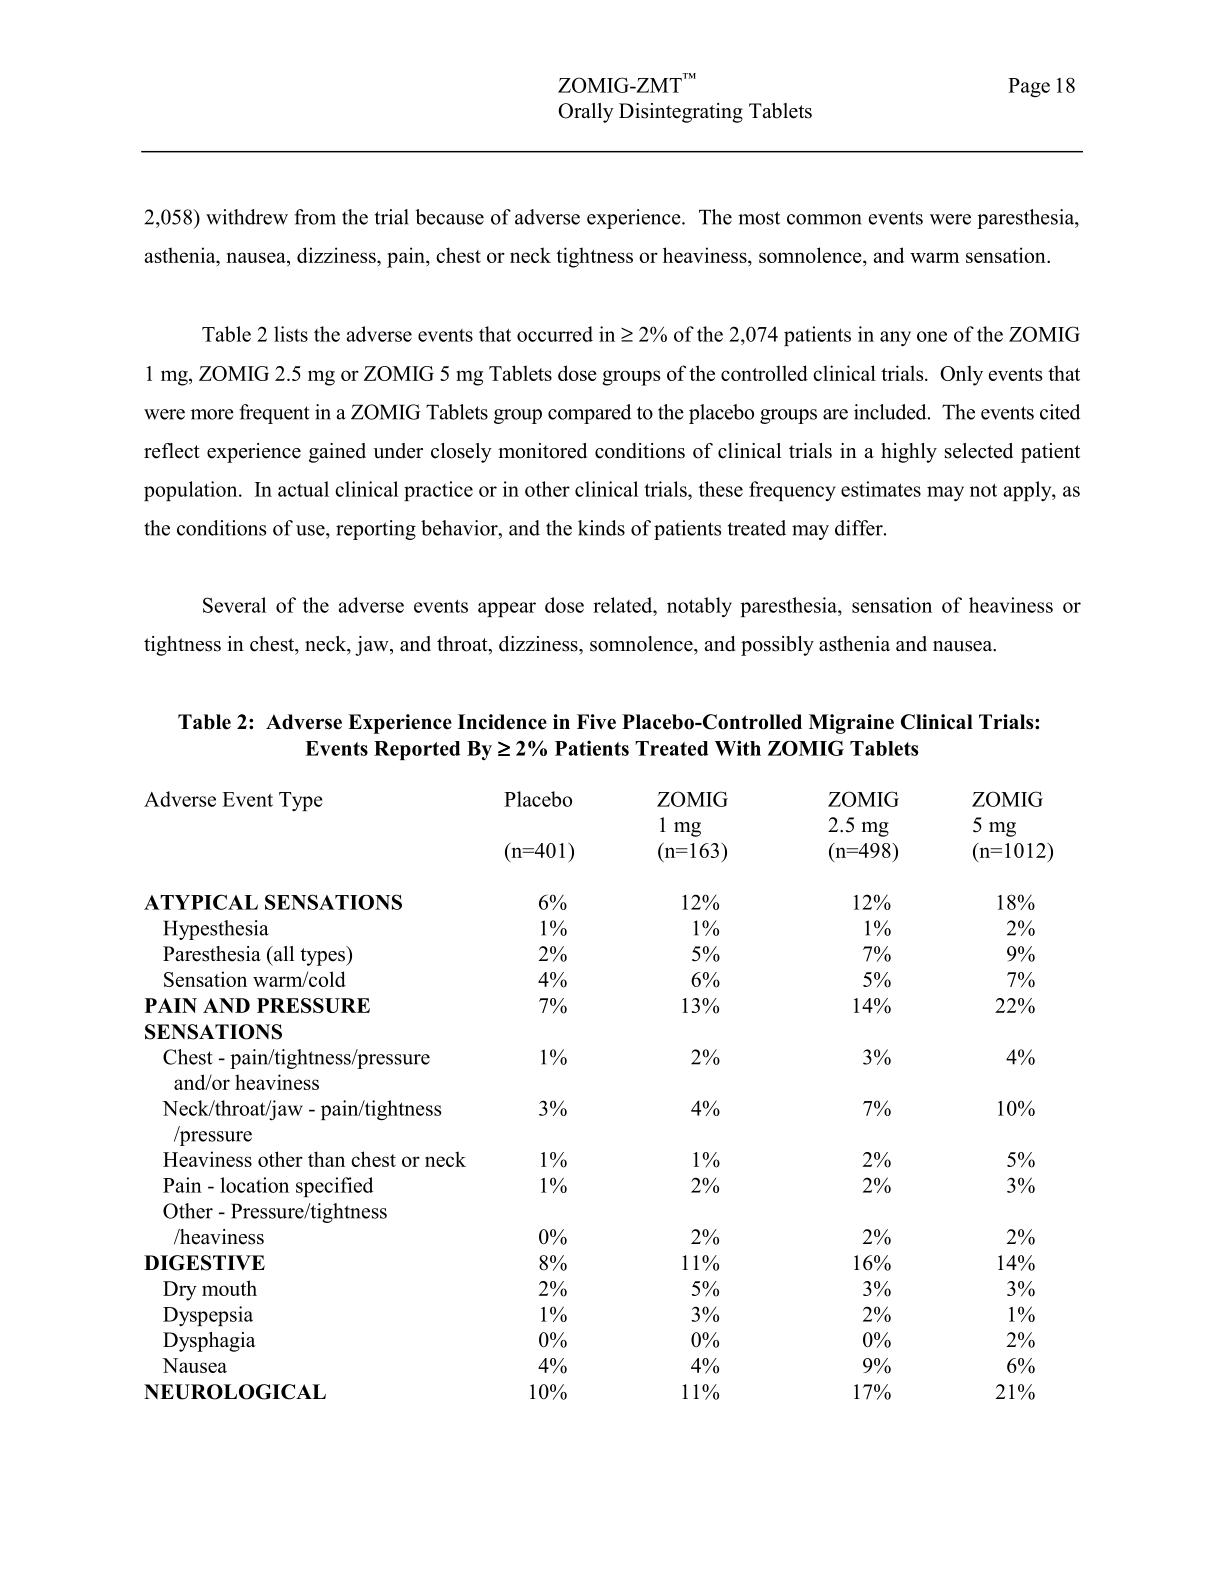nolines: (141, 786, 1056, 1408)
